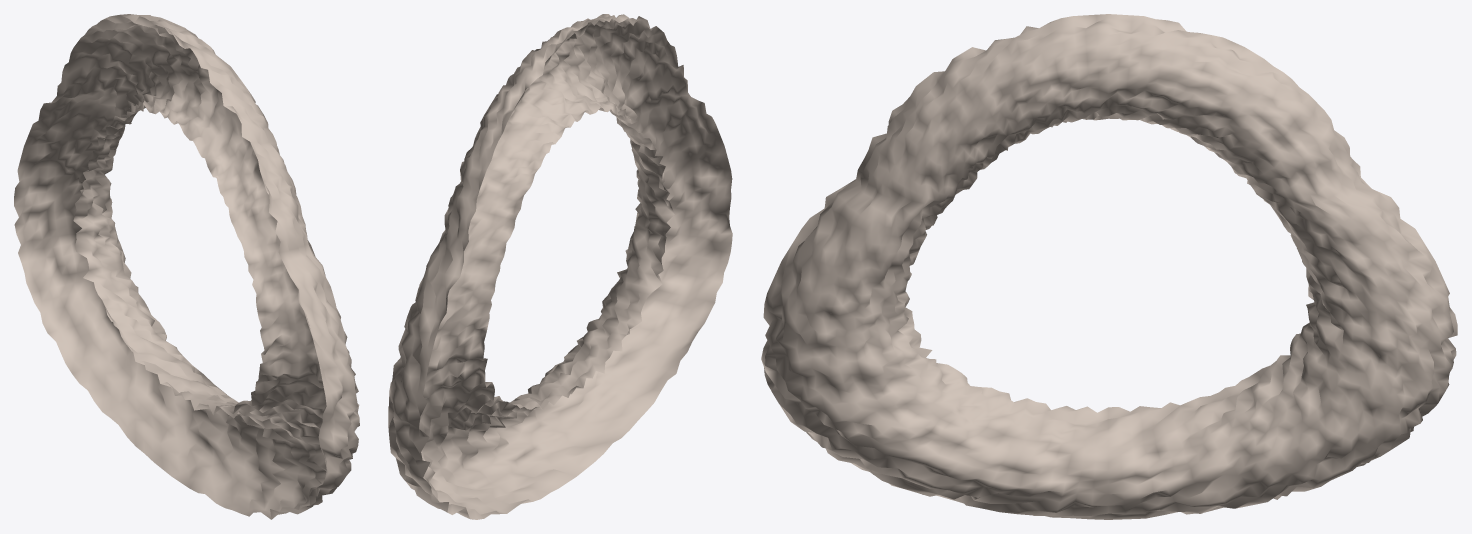
File: rock_natural_bridge_large.glb
3 views of the same model, side by side, from view 1: azimuth 30°, elevation 25°; view 2: azimuth 150°, elevation 25°; view 3: azimuth 270°, elevation 25° (orthographic). The views are drawn at different scales.
Visible parts, largest first — view 1: NaturalBridge_large; view 2: NaturalBridge_large; view 3: NaturalBridge_large.
Boxes of the visible parts, x1,y1,x2,y2 form: NaturalBridge_large: (14, 14, 359, 519); NaturalBridge_large: (388, 14, 732, 519); NaturalBridge_large: (761, 14, 1457, 519).
Size of the model in its own units: 29.13 by 176 by 225.
